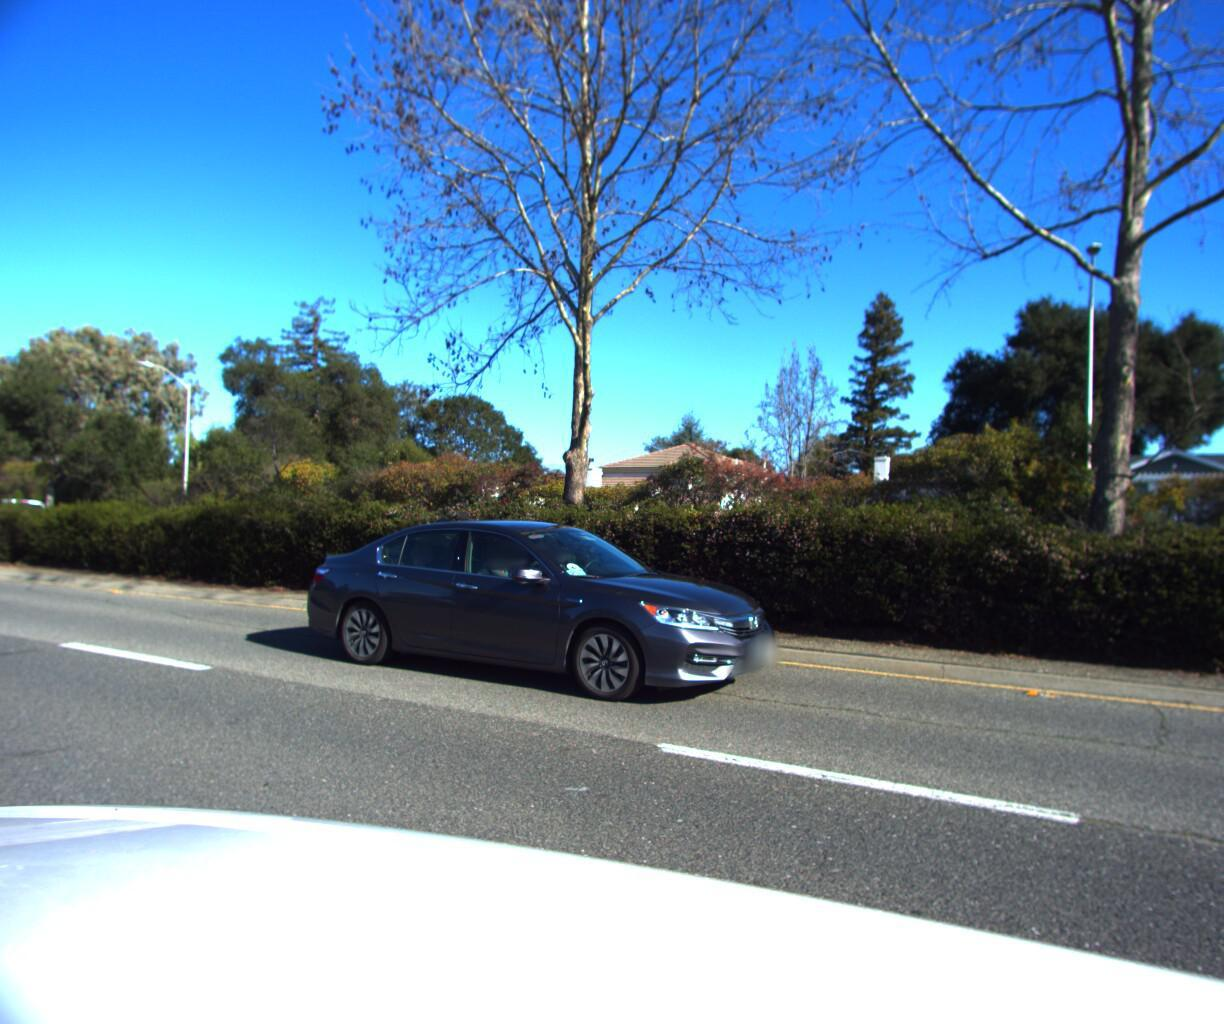car: (285, 502, 798, 701)
